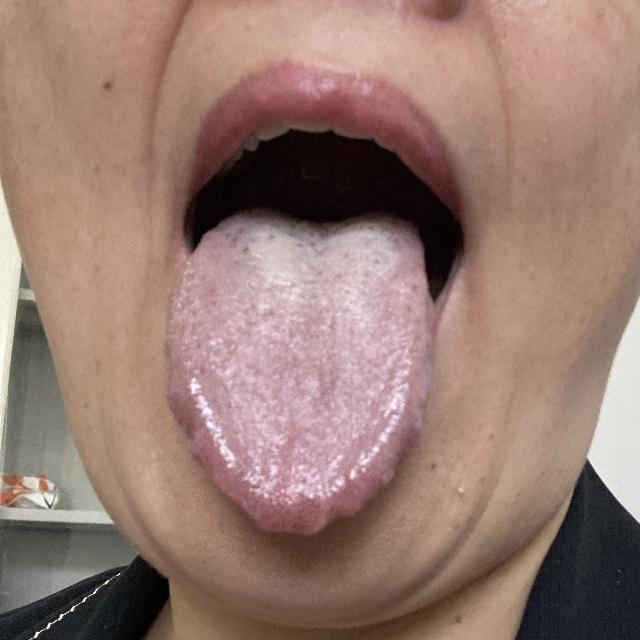baitaishe: (164, 208, 435, 535)
shenquao: (262, 209, 377, 235)
